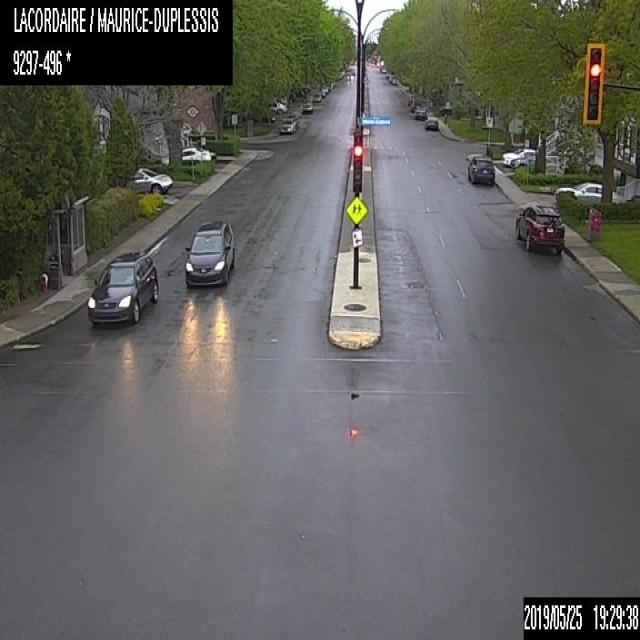vehicle: (86, 250, 158, 326), (183, 217, 234, 288), (514, 201, 564, 251), (556, 180, 621, 205), (121, 164, 174, 193), (467, 155, 494, 184), (177, 148, 219, 165), (512, 154, 557, 169), (501, 146, 535, 165), (279, 116, 296, 132), (424, 114, 438, 130), (413, 104, 427, 120), (267, 101, 286, 112), (302, 97, 313, 112), (410, 96, 421, 110), (260, 113, 276, 122), (312, 90, 322, 102), (318, 85, 328, 95), (389, 74, 397, 83), (326, 80, 332, 90), (346, 72, 352, 80)
